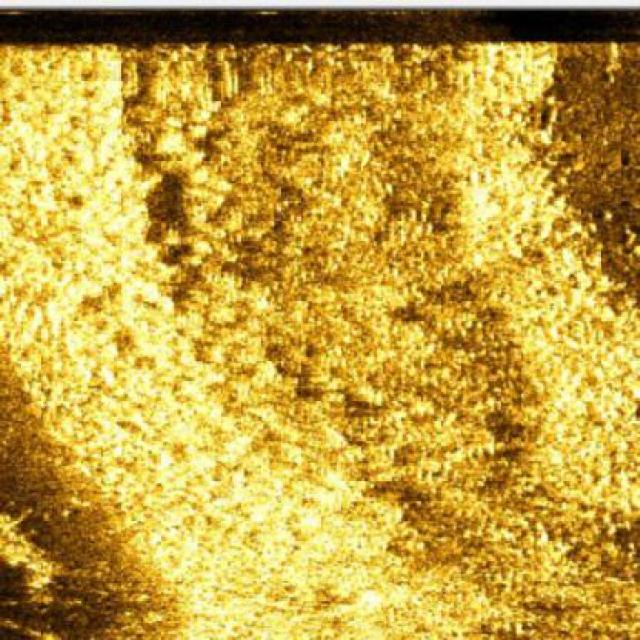bedrock group: (0, 41, 638, 638)
